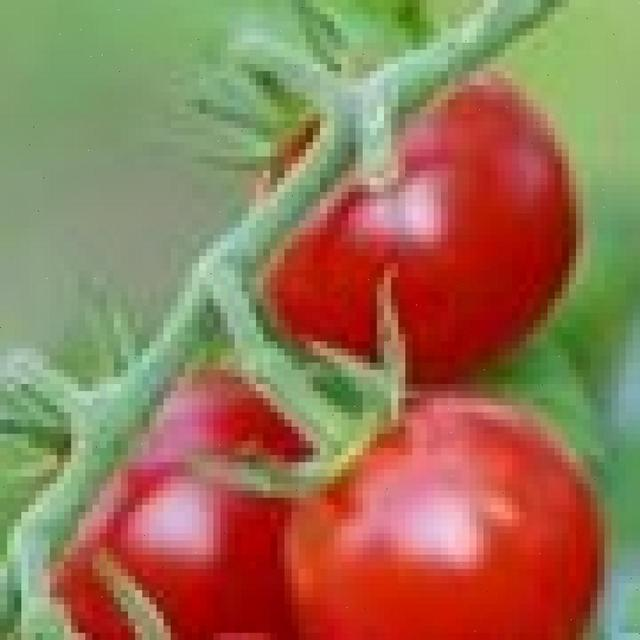Healthy Fruit: (116, 143, 296, 339)
